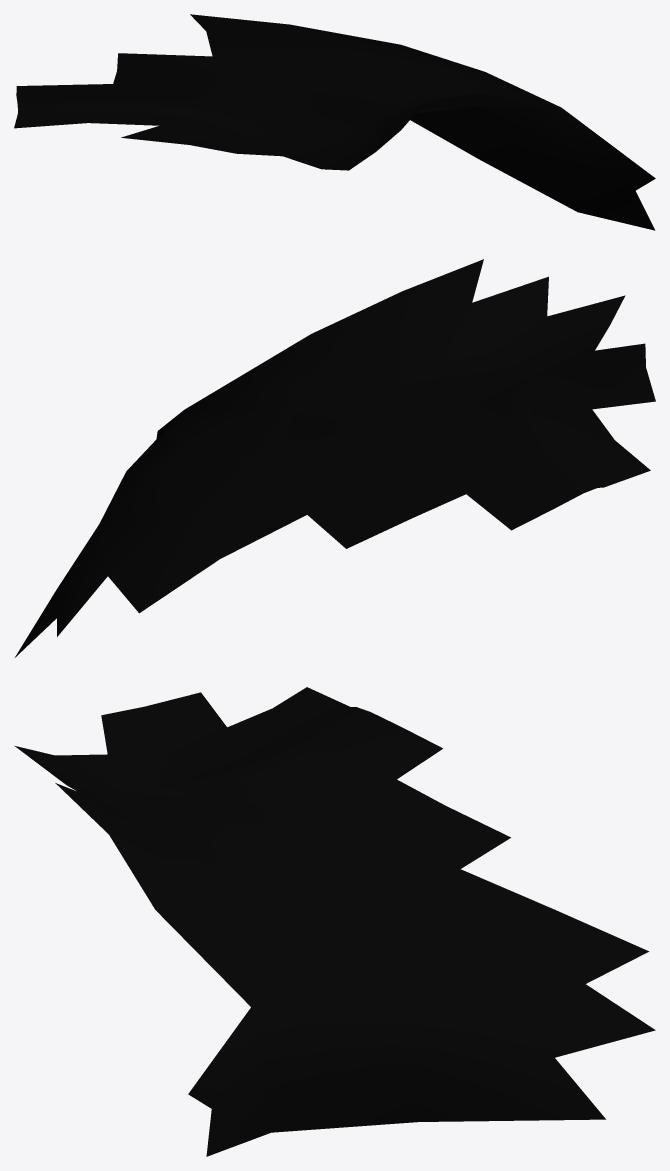
The model's file is HTOWN01_TREESHADOWS06.fbx.
3 renders of one model, top to bottom at view 1: azimuth 30°, elevation 25°; view 2: azimuth 150°, elevation 25°; view 3: azimuth 270°, elevation 25°, orthographic. The views are drawn at different scales.
Visible parts, largest first — view 1: HTOWN01_TREESHADOWS06; view 2: HTOWN01_TREESHADOWS06; view 3: HTOWN01_TREESHADOWS06.
Boxes of the visible parts, x1=… form: HTOWN01_TREESHADOWS06: x1=14, y1=14, x2=655, y2=230; HTOWN01_TREESHADOWS06: x1=15, y1=259, x2=655, y2=657; HTOWN01_TREESHADOWS06: x1=15, y1=687, x2=655, y2=1156.
Size of the model in its own units: 247729 by 103219 by 246212.
1 material, 1 textured.
